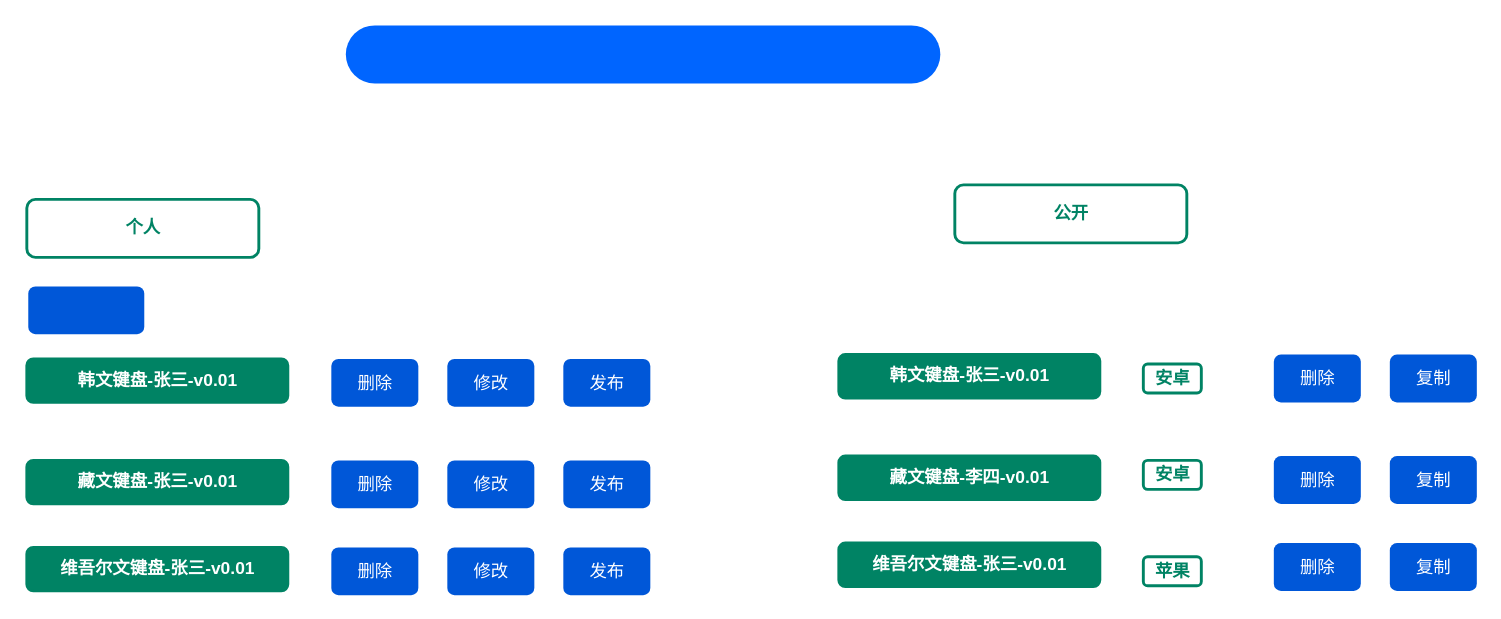
Some shapes in this 1501 by 619 pixel diagram are drawn without their labels. The box of each missing label's shape, as (x1, y1, x2, y2) in pixels:
工作区: (345, 25, 940, 83)
新建: (28, 286, 144, 334)
